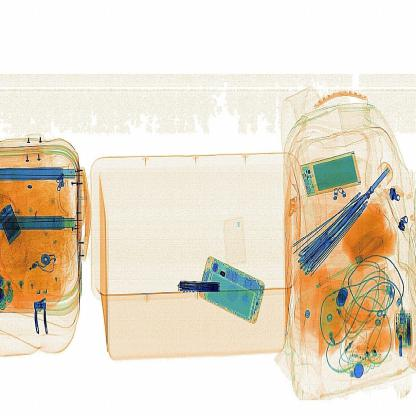scissors: (174, 274, 232, 300)
